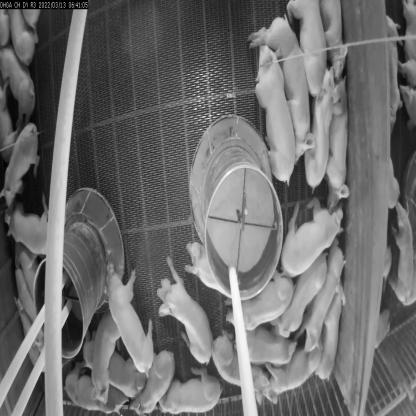Pig: (99, 252, 155, 394), (257, 17, 305, 164), (246, 55, 297, 193), (152, 267, 210, 362), (274, 201, 340, 278), (298, 256, 343, 344), (227, 284, 292, 338), (279, 259, 314, 339), (166, 371, 225, 415), (0, 106, 34, 182), (9, 190, 51, 249), (137, 356, 174, 416), (263, 350, 318, 386), (240, 329, 282, 375)
